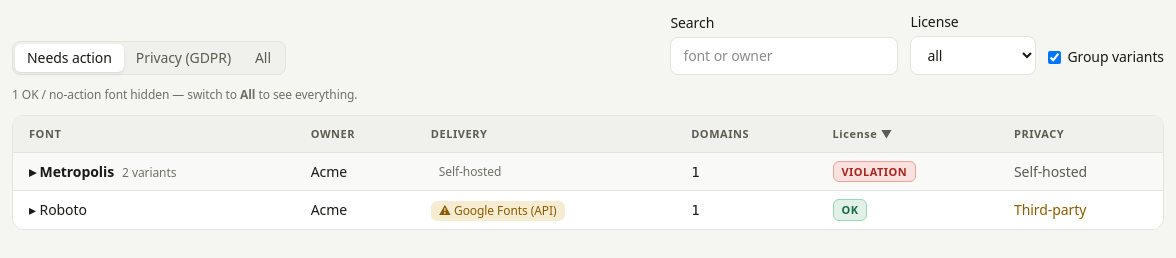
it: FindingsTable › filters by search text (family or owner) and by license verdict
Step 1. Click the button "All" → x=263, y=58, box [243,44,283,72]
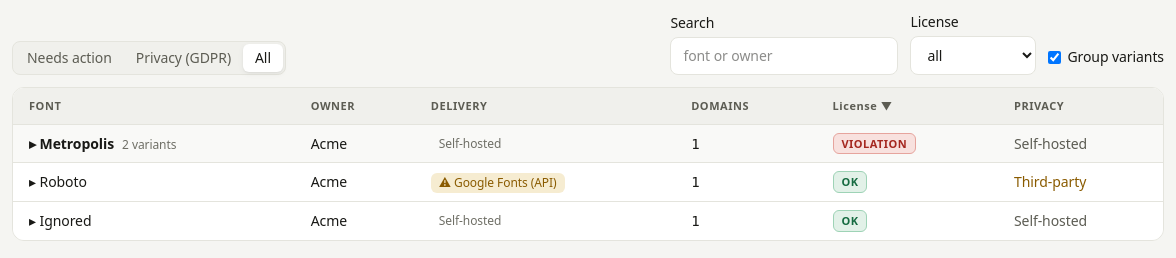
Step 2. Type "robo" into the field named "Search findings" → x=784, y=56, box [670,37,898,75]
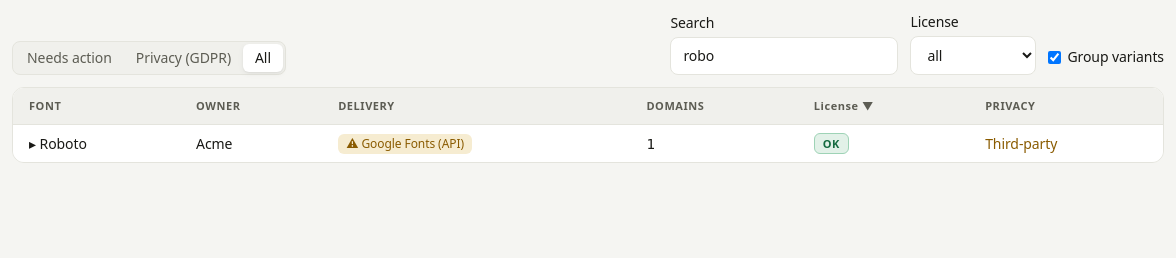
Expected: the button "▸ Roboto" is shown, [29,134,87,154]
Expected: the button "Metropolis" is gone
Step 3. Clear the field named "Search findings" → x=784, y=56, box [670,37,898,75]
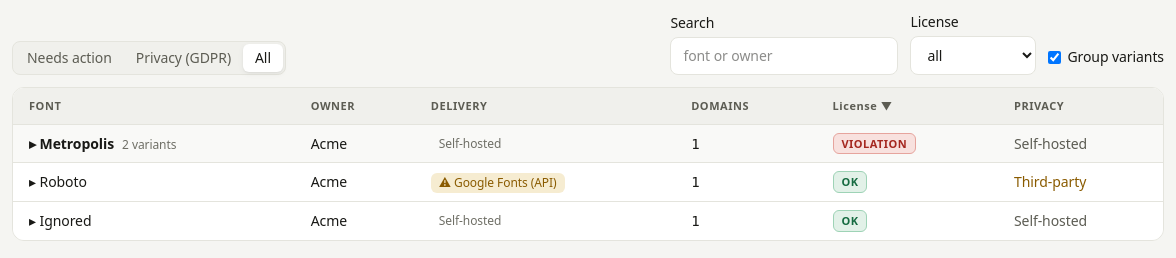
Step 4. Select "ok" in the dropdown labelled "License" → x=973, y=56, box [910,36,1036,75]
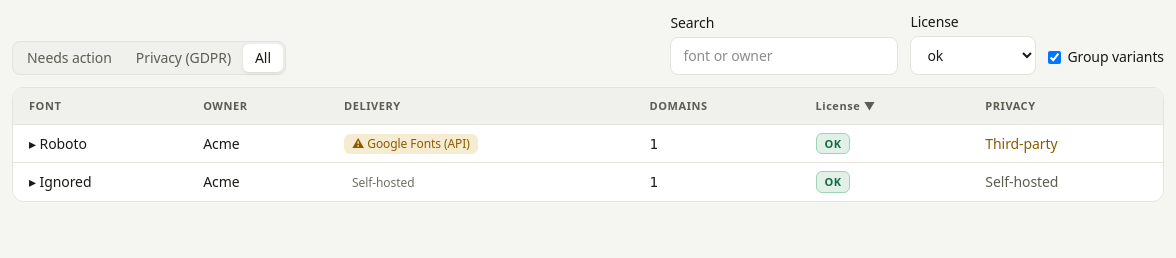
Expected: the button "▸ Ignored" is shown, [29,172,92,192]
Expected: the button "Metropolis" is gone
Step 5. Select "violation" in the dropdown labelled "License" → x=973, y=56, box [910,36,1036,75]
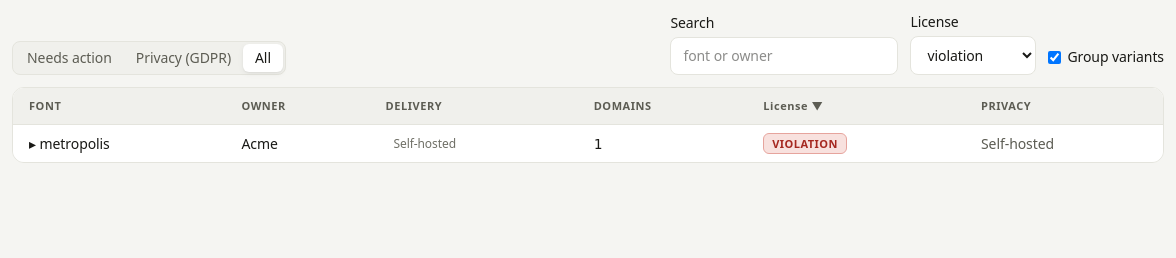
Step 6. Type "zzz" into the field named "Search findings" → x=784, y=56, box [670,37,898,75]
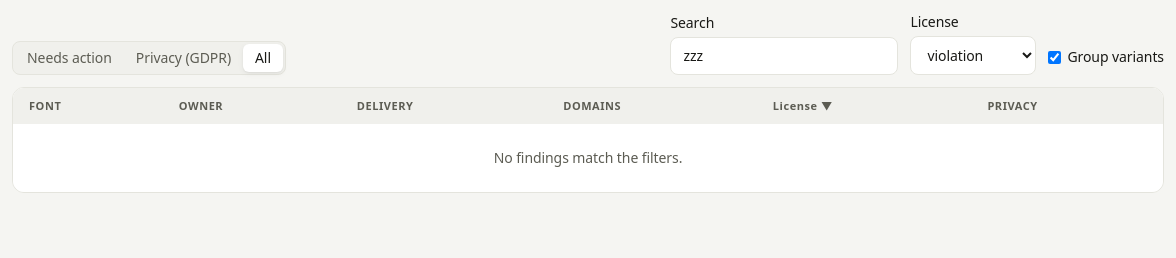
Expected: the text "No findings match the filters." is shown, [13,124,1163,192]
